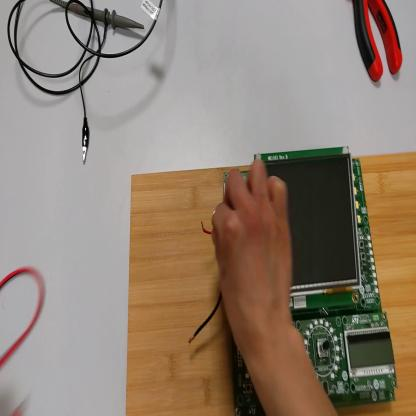hand: (210, 160, 295, 343)
low voltage board: (190, 148, 400, 416)
oscilloscope probe tip: (58, 1, 145, 32)
pliers: (353, 1, 405, 84)
working area: (126, 151, 416, 415)
